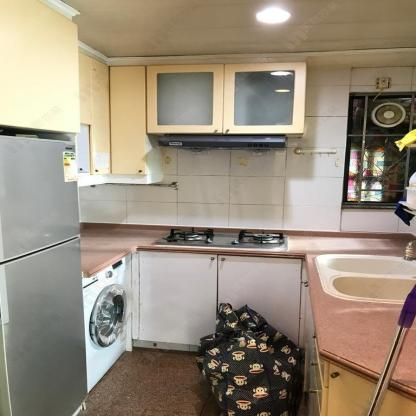Cupboard: (107, 62, 316, 183), (130, 252, 305, 349)
Fridge: (0, 134, 87, 414)
Sink: (314, 256, 415, 302)
Stove: (137, 225, 292, 250)
Washing Machine: (82, 253, 132, 394)
